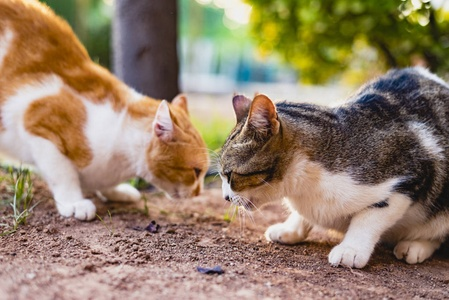cat: (219, 67, 449, 270), (1, 1, 210, 223)
